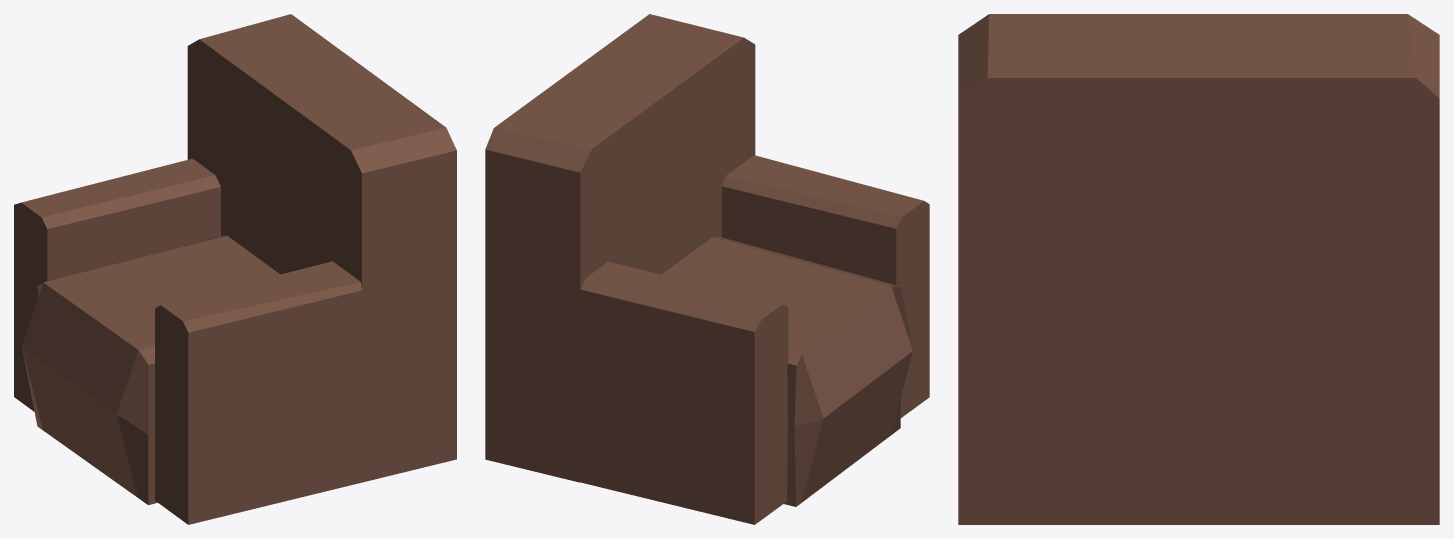
The model's file is poltrona.glb.
3 views of the same model, side by side, from view 1: azimuth 30°, elevation 25°; view 2: azimuth 150°, elevation 25°; view 3: azimuth 270°, elevation 25° (orthographic). The views are drawn at different scales.
Visible parts, largest first — view 1: group1761739366, group201205049, group1021415585, group628430949; view 2: group1761739366, group628430949, group1021415585, group201205049; view 3: group1761739366.
Boxes of the visible parts, bbox=[...] form: group1761739366: bbox=[187, 14, 456, 482]; group201205049: bbox=[155, 261, 361, 524]; group1021415585: bbox=[22, 235, 279, 505]; group628430949: bbox=[14, 158, 220, 411]; group1761739366: bbox=[485, 14, 755, 482]; group628430949: bbox=[580, 262, 788, 524]; group1021415585: bbox=[661, 237, 912, 506]; group201205049: bbox=[722, 155, 929, 417]; group1761739366: bbox=[958, 14, 1439, 524].
Size of the model in its own units: 0.4148 by 0.4352 by 0.419.
